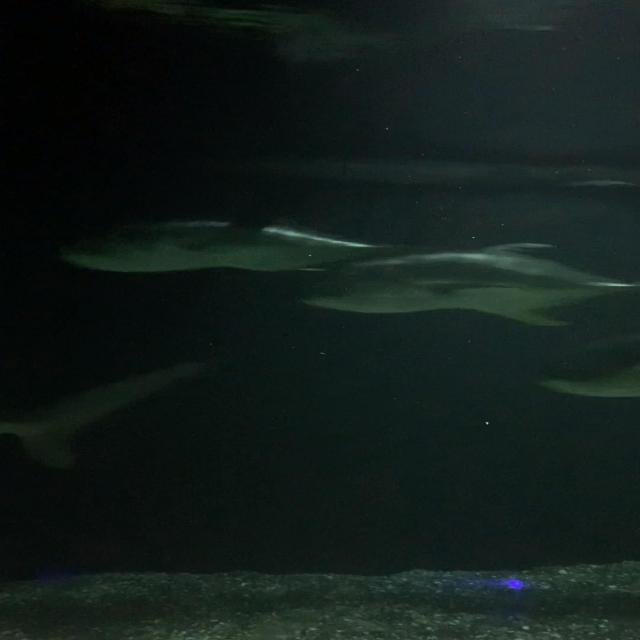fish: (291, 239, 638, 331), (56, 208, 446, 276), (532, 339, 640, 404)
shark: (0, 353, 219, 472)
